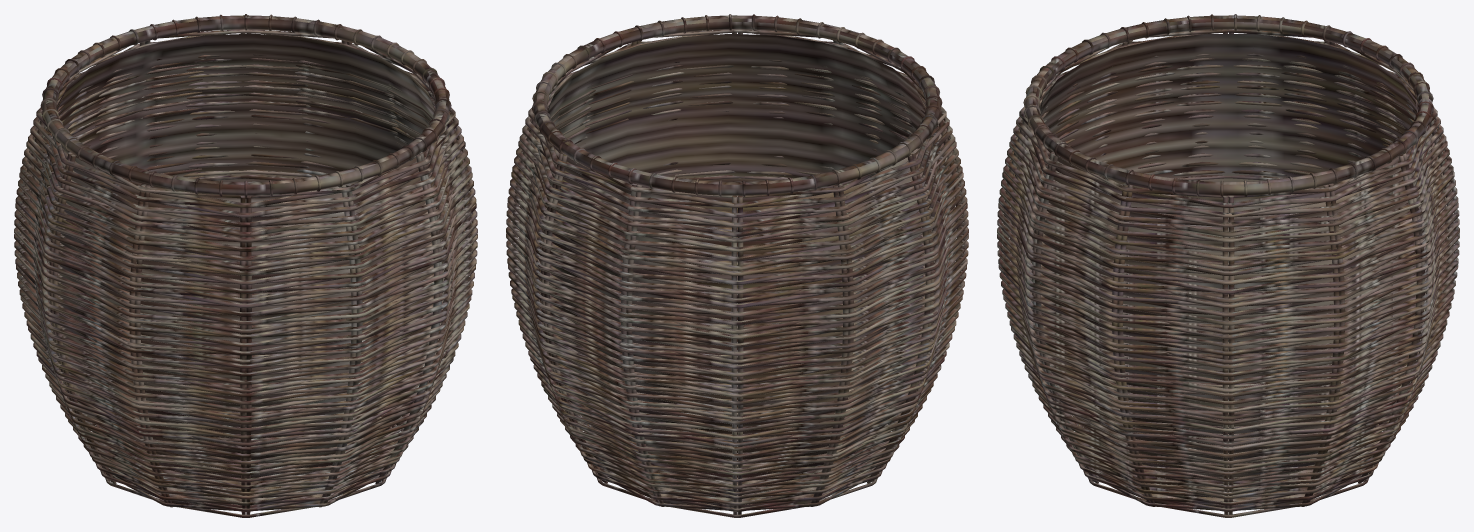
The model's file is lanzi_hezi.FBX.
3 renders of one model, left to right at view 1: azimuth 30°, elevation 25°; view 2: azimuth 150°, elevation 25°; view 3: azimuth 270°, elevation 25°, orthographic.
Visible parts, largest first — view 1: lanzi, Cylinder001; view 2: lanzi, Cylinder001; view 3: lanzi, Cylinder001.
Boxes of the visible parts, x1,y1,x2,y2 form: lanzi: [14, 14, 477, 517]; Cylinder001: [36, 33, 444, 477]; lanzi: [506, 14, 968, 517]; Cylinder001: [539, 34, 945, 477]; lanzi: [997, 14, 1459, 517]; Cylinder001: [1031, 34, 1433, 477].
Bounding box in the file's own units: 8.21 × 6.92 × 8.21.
